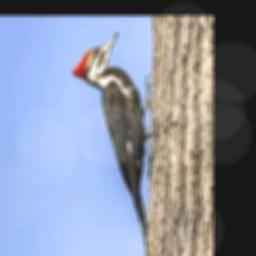Woodpecker: (71, 30, 152, 251)
